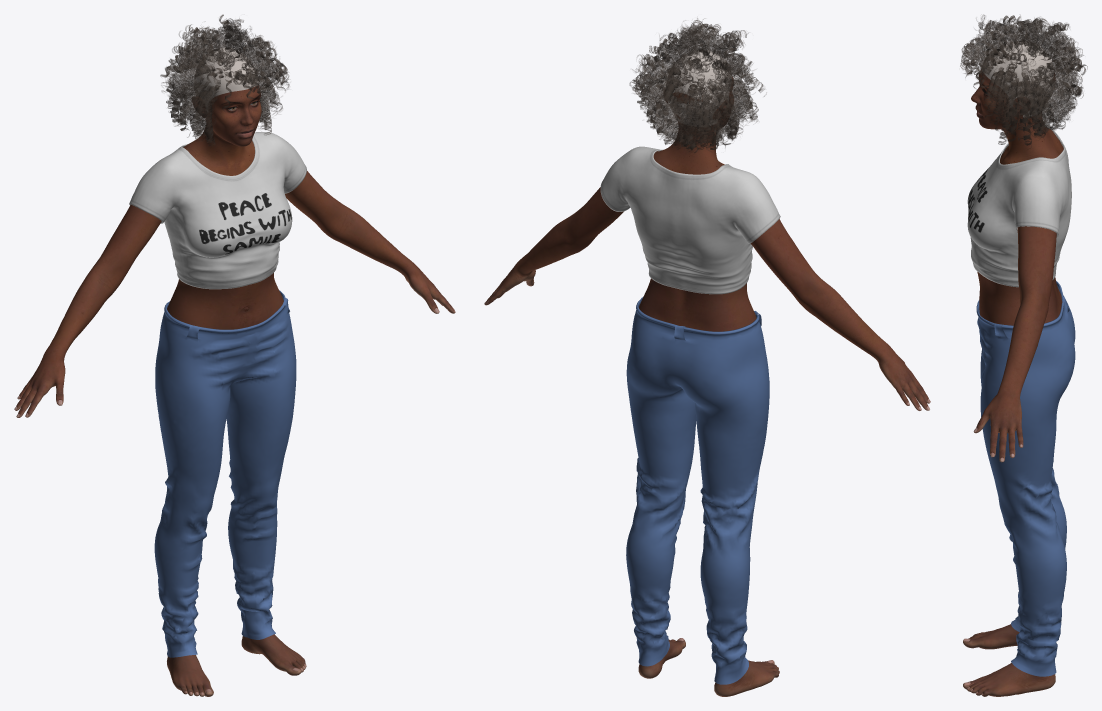
Rendered from female-dark-jeans-tshirt.glb.
The picture shows the model from 3 angles, left to right: view 1: azimuth 30°, elevation 25°; view 2: azimuth 150°, elevation 25°; view 3: azimuth 270°, elevation 25°; orthographic projection.
Visible parts, largest first — view 1: Clothing Jean Pants, Body, Clothing Summer Casual T-Shirt, Hair Bounce Curl Hair; view 2: Clothing Jean Pants, Body, Clothing Summer Casual T-Shirt, Hair Bounce Curl Hair; view 3: Clothing Jean Pants, Body, Hair Bounce Curl Hair, Clothing Summer Casual T-Shirt.
Boxes of the visible parts, left/top/right/bottom form: Clothing Jean Pants: left=154, top=290, right=296, bottom=657; Body: left=14, top=85, right=455, bottom=696; Clothing Summer Casual T-Shirt: left=129, top=132, right=306, bottom=289; Hair Bounce Curl Hair: left=160, top=14, right=289, bottom=146; Clothing Jean Pants: left=626, top=297, right=769, bottom=684; Body: left=484, top=77, right=930, bottom=696; Clothing Summer Casual T-Shirt: left=600, top=146, right=780, bottom=294; Hair Bounce Curl Hair: left=629, top=18, right=766, bottom=152; Clothing Jean Pants: left=976, top=281, right=1075, bottom=676; Body: left=963, top=69, right=1063, bottom=696; Hair Bounce Curl Hair: left=960, top=14, right=1087, bottom=148; Clothing Summer Casual T-Shirt: left=967, top=123, right=1071, bottom=287.
Bounding box in the file's own units: 1.26 × 1.79 × 0.318.
Materials: 19 (17 with a texture image).
